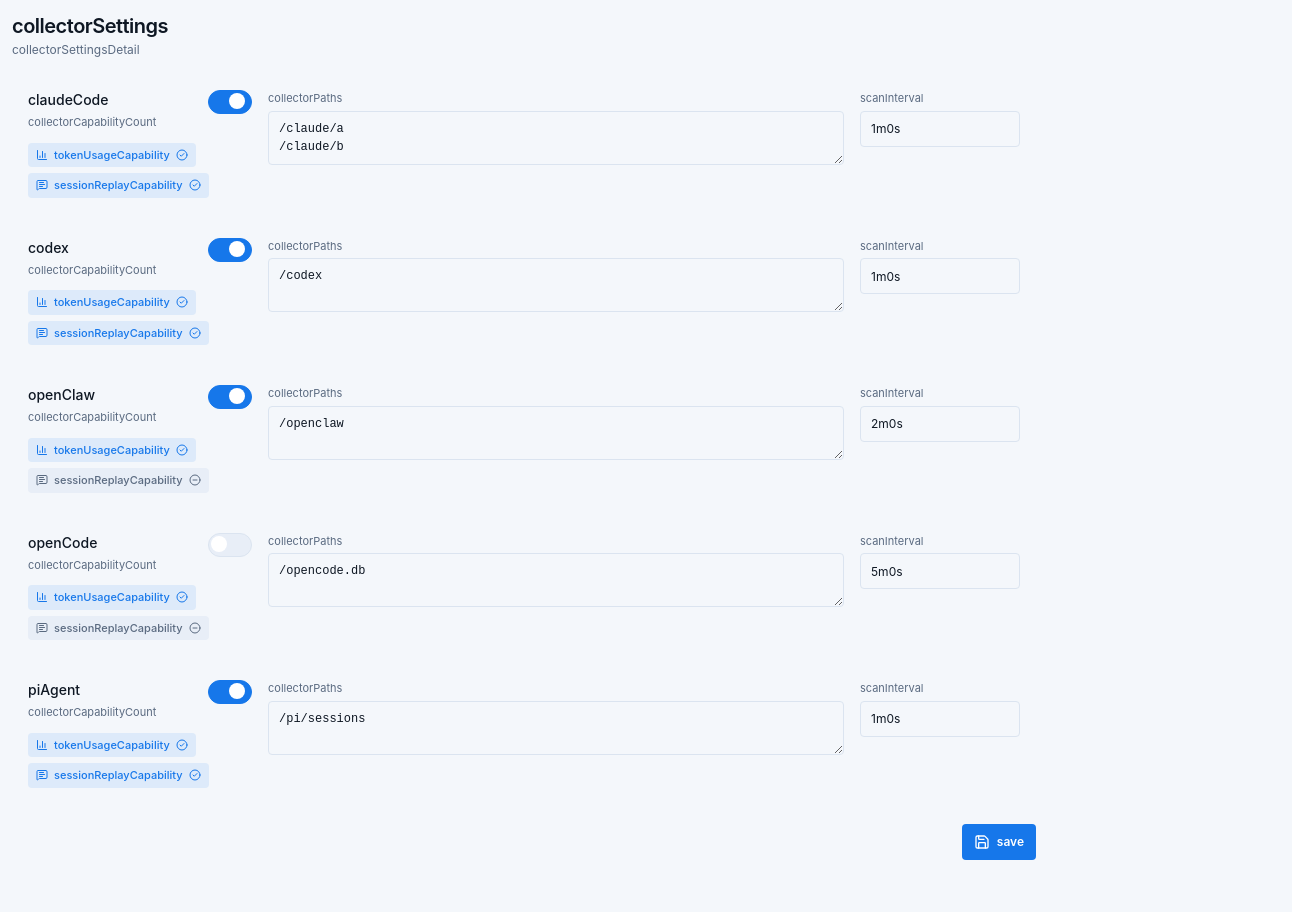
application settings › shows save errors and does not restart after a failed PUT
Step 1. Click the button with aria-label "saveCollectorSettings" → (999, 842), box [962,824,1036,860]
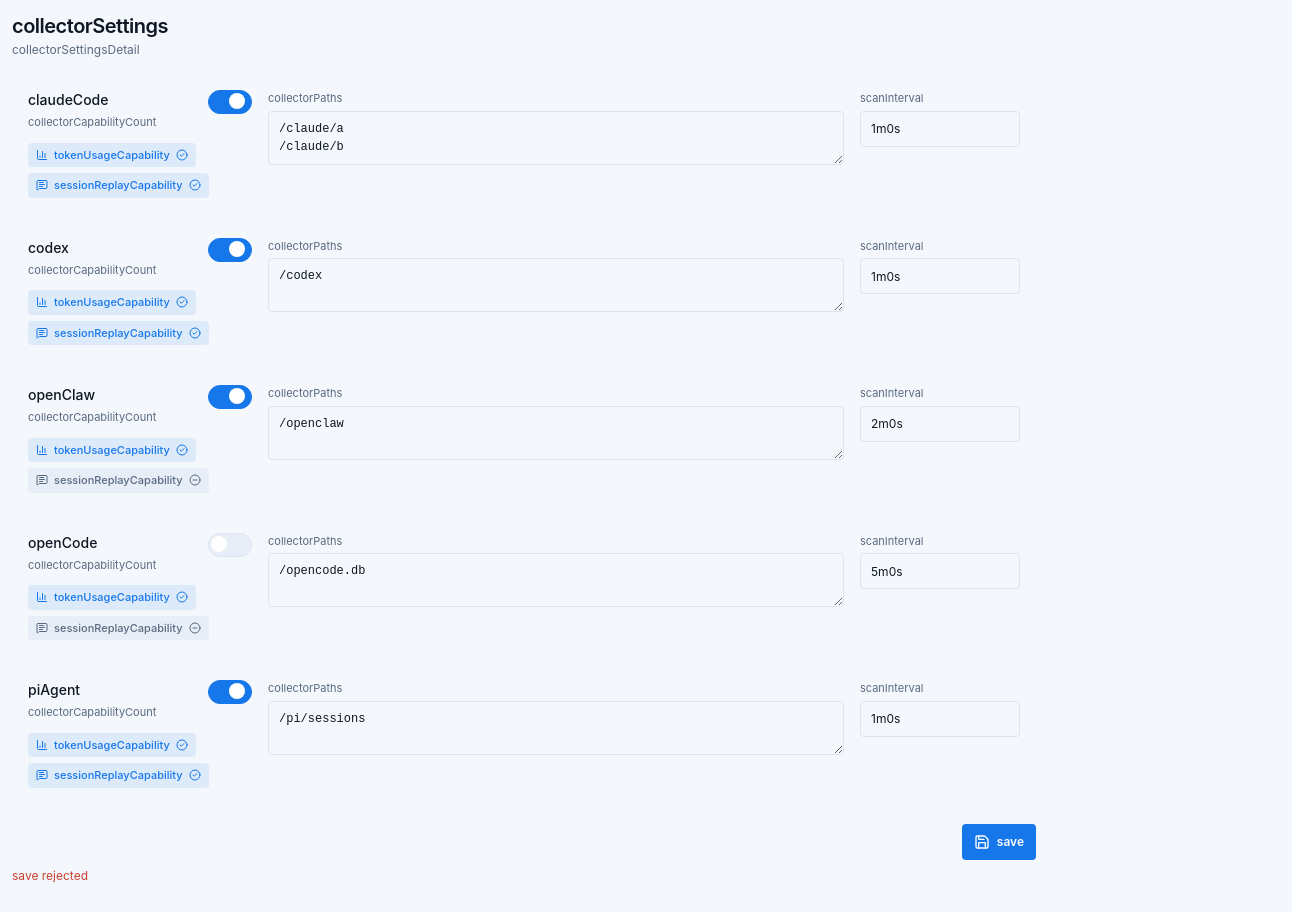
Check: the text "save rejected" is shown, box [12,868,88,882]
